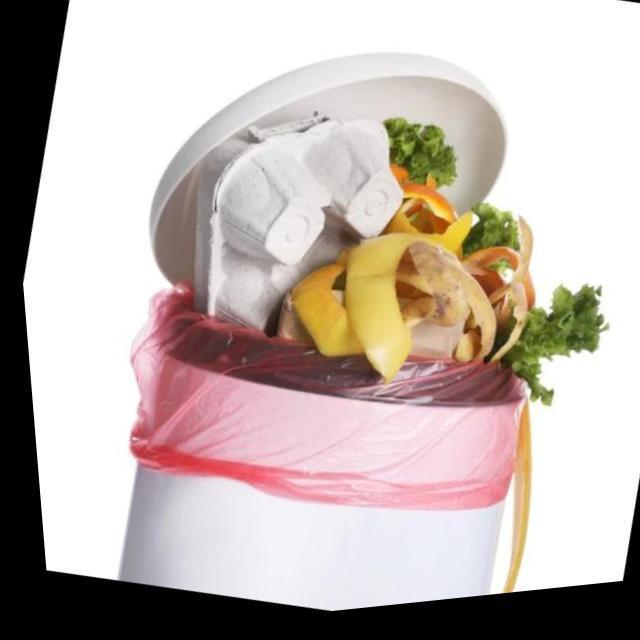Garbage: (146, 63, 597, 413)
contaminated_waste: (189, 123, 398, 336)
